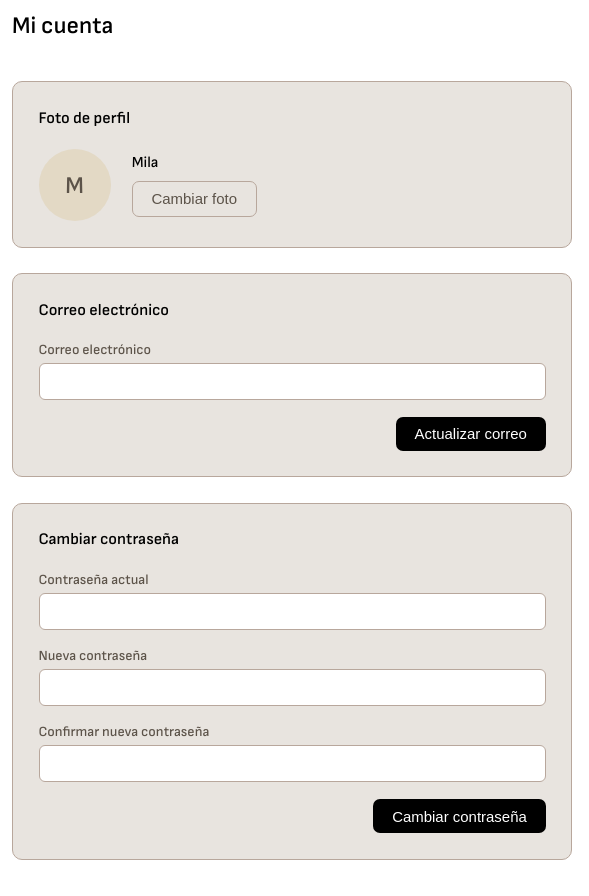
Test: MyAccount › shows error when new passwords do not match
This screenshot has width=589, height=896.
Type "oldpass1" into the password field labelled "Contraseña actual". click: (292, 611)
box: left=38, top=593, right=546, bottom=630
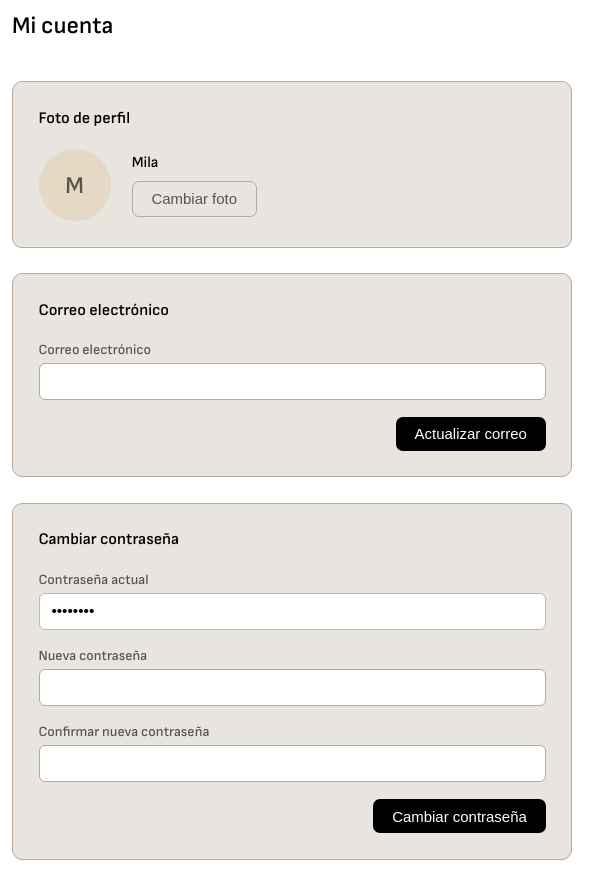
Type "newpass1" into the password field labelled "Nueva contraseña". click: (292, 687)
box: left=38, top=669, right=546, bottom=706
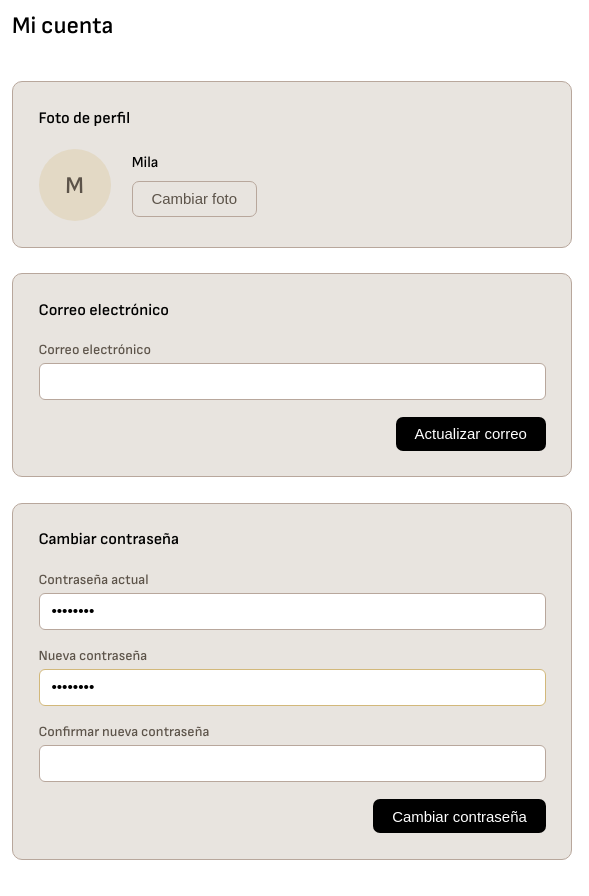
Type "different" into the password field labelled "Confirmar nueva contraseña". click: (292, 764)
box: left=38, top=745, right=546, bottom=782
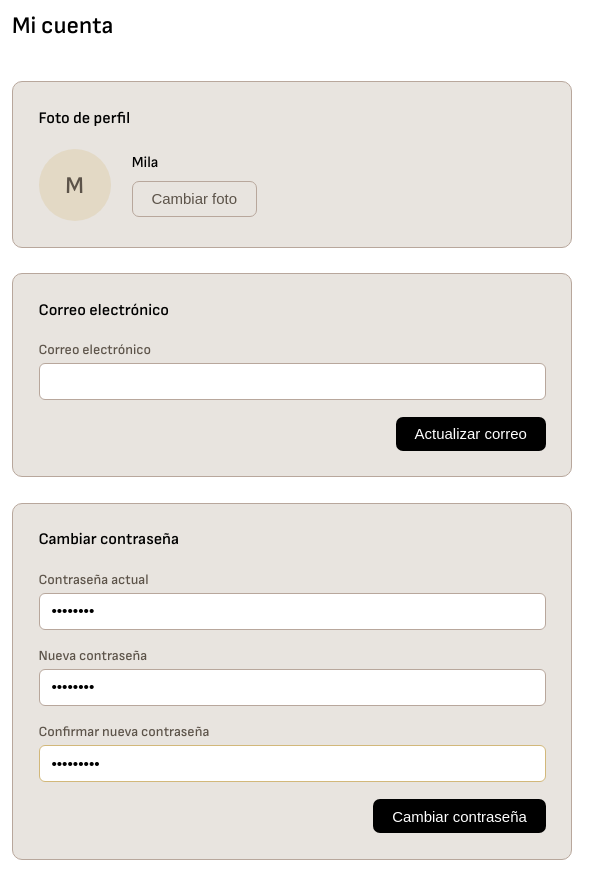
Click the button "Cambiar contraseña". click: click(460, 816)
box: left=374, top=799, right=546, bottom=833
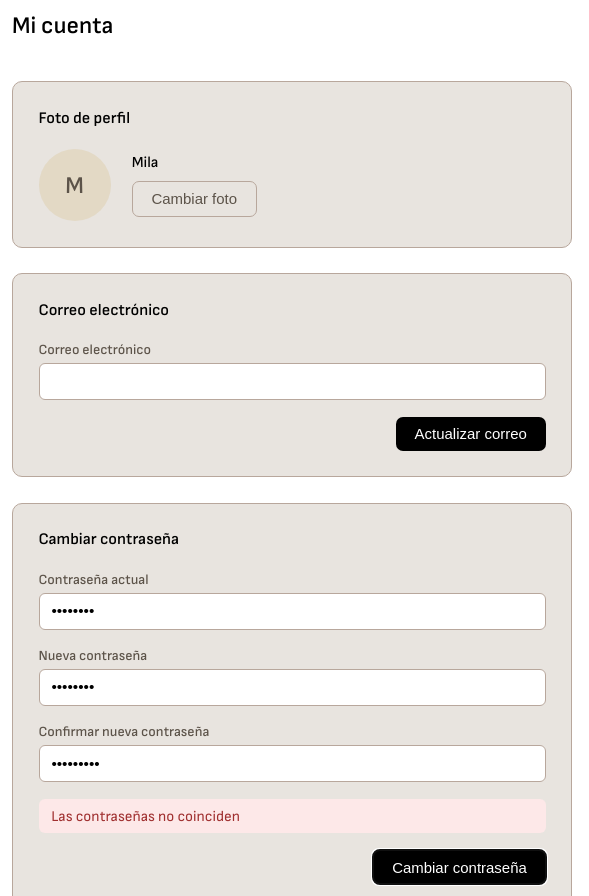
Result: the text "Las contraseñas no coinciden" is shown at left=38, top=799, right=546, bottom=833
